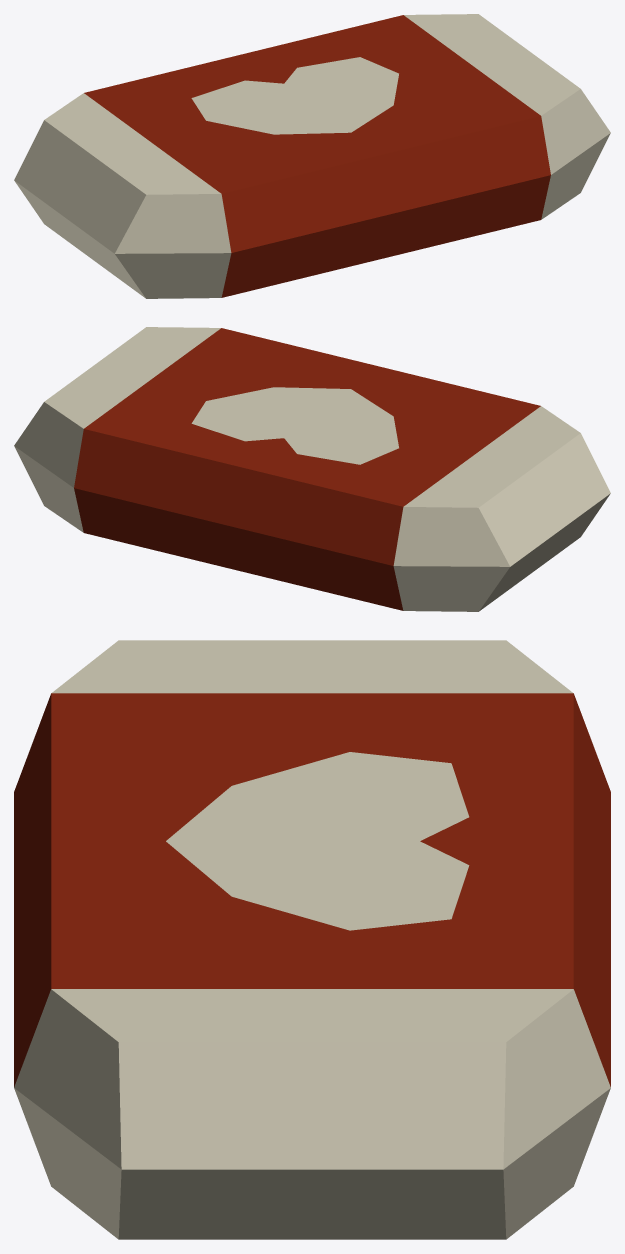
The model's file is LPWarPack_MedKit.fbx.
3 renders of one model, top to bottom at view 1: azimuth 30°, elevation 25°; view 2: azimuth 150°, elevation 25°; view 3: azimuth 270°, elevation 25°, orthographic. The views are drawn at different scales.
Parts seen in each view (by area): view 1: MedKit; view 2: MedKit; view 3: MedKit.
Boxes of the visible parts, x1,y1,x2,y2 form: MedKit: (14,14,610,298); MedKit: (14,327,610,611); MedKit: (14,640,610,1239).
Bounding box in the file's own units: 56.87 × 11.4 × 31.25.
